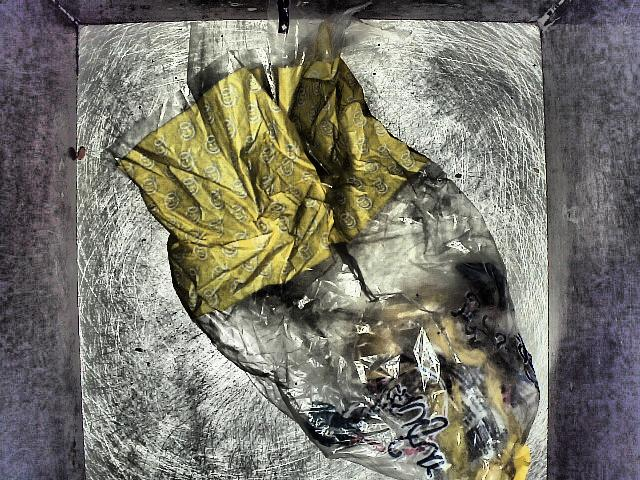Plastic: (81, 26, 542, 480)
